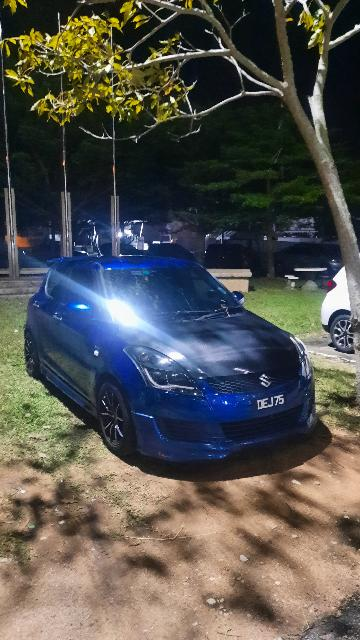License_Plate: (251, 392, 287, 412)
car: (24, 250, 323, 470)
